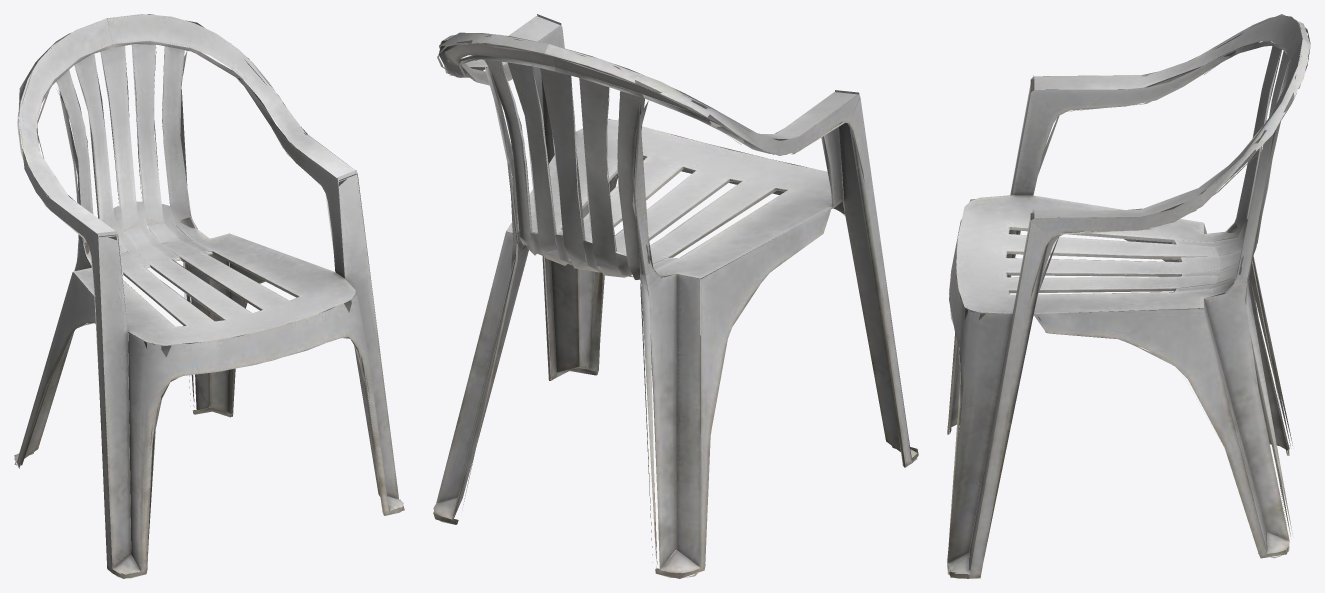
Rendered from plastic_chair.glb.
The picture shows the model from 3 angles, left to right: view 1: azimuth 30°, elevation 25°; view 2: azimuth 150°, elevation 25°; view 3: azimuth 270°, elevation 25°; orthographic projection. The views are drawn at different scales.
Parts seen in each view (by area): view 1: plastic_chair; view 2: plastic_chair; view 3: plastic_chair.
Part boxes in pixels (x1=…): plastic_chair: x1=14, y1=14, x2=404, y2=578; plastic_chair: x1=433, y1=14, x2=918, y2=578; plastic_chair: x1=947, y1=14, x2=1310, y2=578.
Size of the model in its own units: 0.6455 by 0.8811 by 0.6284.
1 material, 1 textured.
